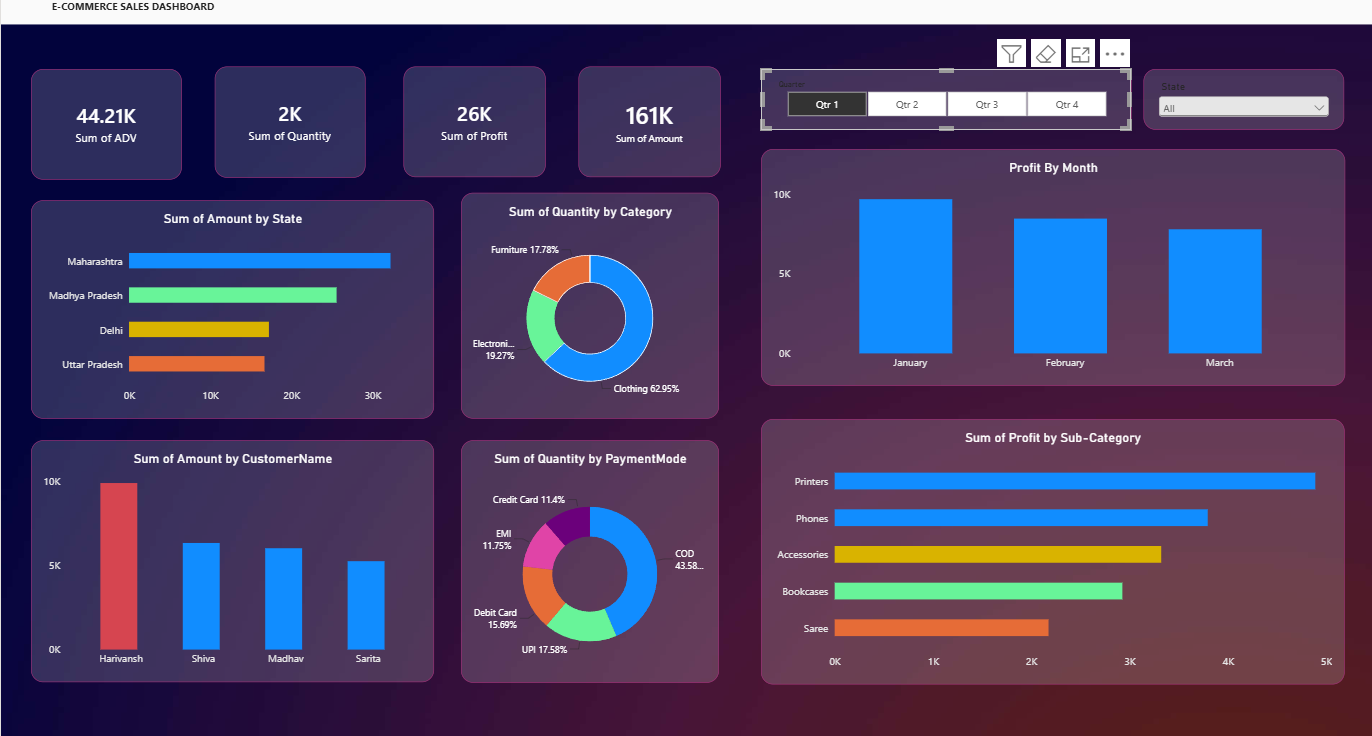

What the dashboard file says about the page in this screenshot:
{"tool":"powerbi","page":{"name":"Page 1","canvas":[1920,1080],"ordinal":0},"visuals":[{"type":"textbox","box":[10,0,347.5,97.5],"z":0},{"type":"columnChart","title":"Profit By Month","fields":{"Category":["Orders.Order Date.Variation.Date Hierarchy.Month"],"Y":["Sum(Details.Profit)"]},"box":[1060,210,815,330],"z":1000},{"type":"clusteredBarChart","fields":{"Category":["Details.Sub-Category"],"Y":["Sum(Details.Profit)"]},"box":[1060,586,814,370],"z":2000},{"type":"donutChart","fields":{"Category":["Details.Category"],"Y":["Sum(Details.Quantity)"]},"box":[642.5,270,360,315],"z":3000},{"type":"donutChart","fields":{"Category":["Details.PaymentMode"],"Y":["Sum(Details.Quantity)"]},"box":[642.5,615,360,338.3],"z":4000},{"type":"cardVisual","fields":{"Data":["Sum(Details.Amount)"]},"box":[805,95,198,154],"z":5000},{"type":"cardVisual","fields":{"Data":["Sum(Details.Profit)"]},"box":[562.5,95,198,154],"z":6000},{"type":"cardVisual","fields":{"Data":["Sum(Details.Quantity)"]},"box":[297.5,95,210,155],"z":7000},{"type":"cardVisual","fields":{"Data":["Sum(Details.ADV)"]},"box":[42.5,97.5,210,154],"z":8000},{"type":"clusteredBarChart","fields":{"Category":["Orders.State"],"Y":["Sum(Details.Amount)"]},"box":[42.5,280,562.5,305],"z":9000},{"type":"columnChart","fields":{"Category":["Orders.CustomerName"],"Y":["Sum(Details.Amount)"]},"box":[42.5,615,562.5,337.5],"z":10000},{"type":"slicer","fields":{"Values":["Orders.Order Date.Variation.Date Hierarchy.Quarter"]},"box":[1060,97.5,517.5,85],"z":11000},{"type":"slicer","fields":{"Values":["Orders.State"]},"box":[1595,97.5,280,85],"z":12000}]}

Visuals, with their boxes in screenshot pixels (x1, y1, x2, y2):
textbox: <region>0, 0, 251, 20</region>
"Profit By Month" columnChart: <region>759, 102, 1347, 340</region>
clusteredBarChart - Details.Sub-Category x Sum(Details.Profit): <region>759, 373, 1347, 641</region>
donutChart - Details.Category x Sum(Details.Quantity): <region>457, 145, 717, 373</region>
donutChart - Details.PaymentMode x Sum(Details.Quantity): <region>457, 394, 717, 639</region>
cardVisual - Sum(Details.Amount): <region>574, 19, 717, 130</region>
cardVisual - Sum(Details.Profit): <region>399, 19, 542, 130</region>
cardVisual - Sum(Details.Quantity): <region>208, 19, 359, 131</region>
cardVisual - Sum(Details.ADV): <region>24, 20, 175, 132</region>
clusteredBarChart - Orders.State x Sum(Details.Amount): <region>24, 152, 430, 373</region>
columnChart - Orders.CustomerName x Sum(Details.Amount): <region>24, 394, 430, 638</region>
slicer - Orders.Order Date.Variation.Date Hierarchy.Quarter: <region>759, 20, 1132, 82</region>
slicer - Orders.State: <region>1145, 20, 1347, 82</region>
